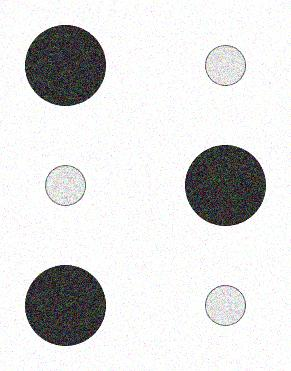O: (18, 18, 272, 354)
